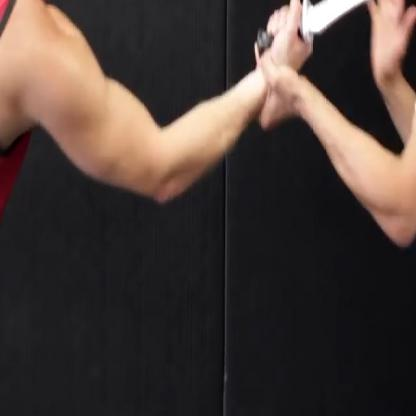knife: (250, 0, 385, 58)
